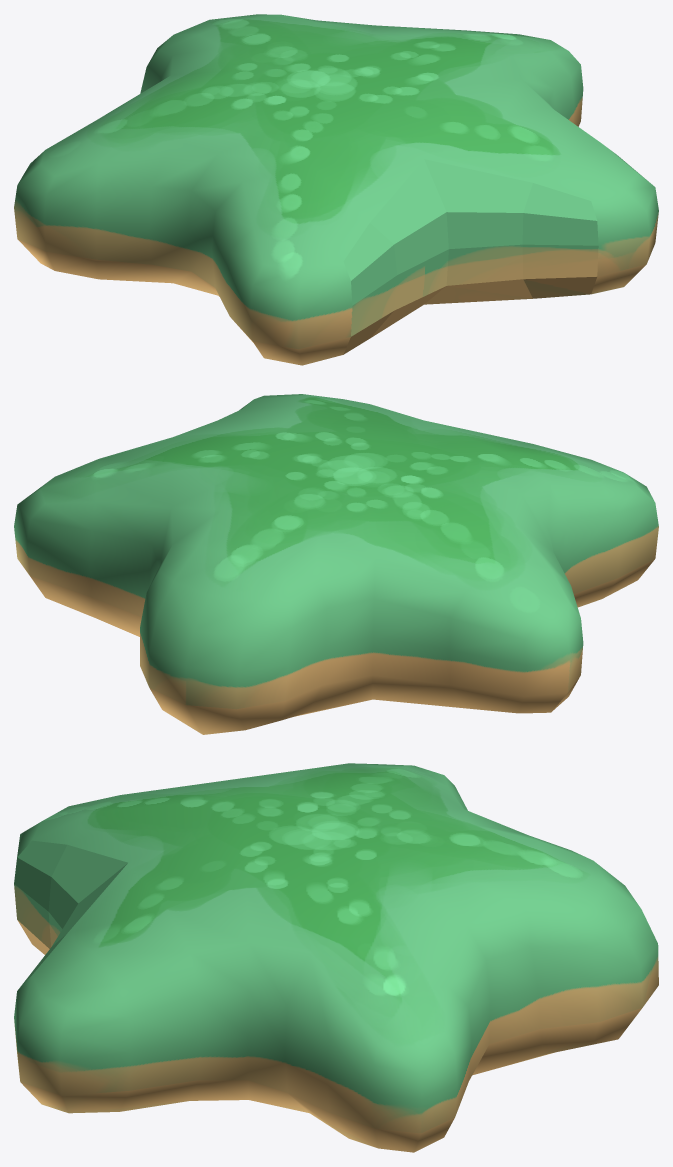
The model's file is Star01.fbx.
3 renders of one model, top to bottom at view 1: azimuth 30°, elevation 25°; view 2: azimuth 150°, elevation 25°; view 3: azimuth 270°, elevation 25°, orthographic. The views are drawn at different scales.
Visible parts, largest first — view 1: Star01; view 2: Star01; view 3: Star01.
Boxes of the visible parts, x1,y1,x2,y2 form: Star01: (14, 14, 658, 365); Star01: (14, 394, 658, 734); Star01: (14, 763, 658, 1152).
Size of the model in its own units: 579 by 170 by 523.
1 material, 1 textured.
